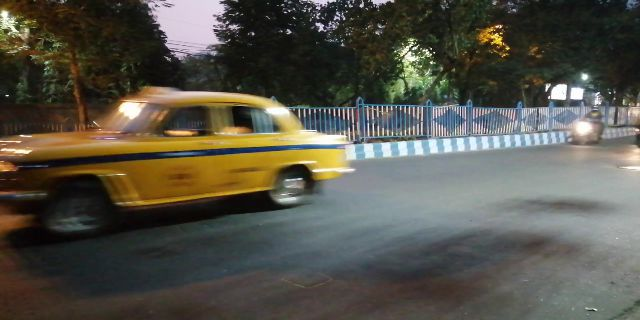Car: (7, 89, 351, 222)
Motorbike: (569, 103, 609, 147)
